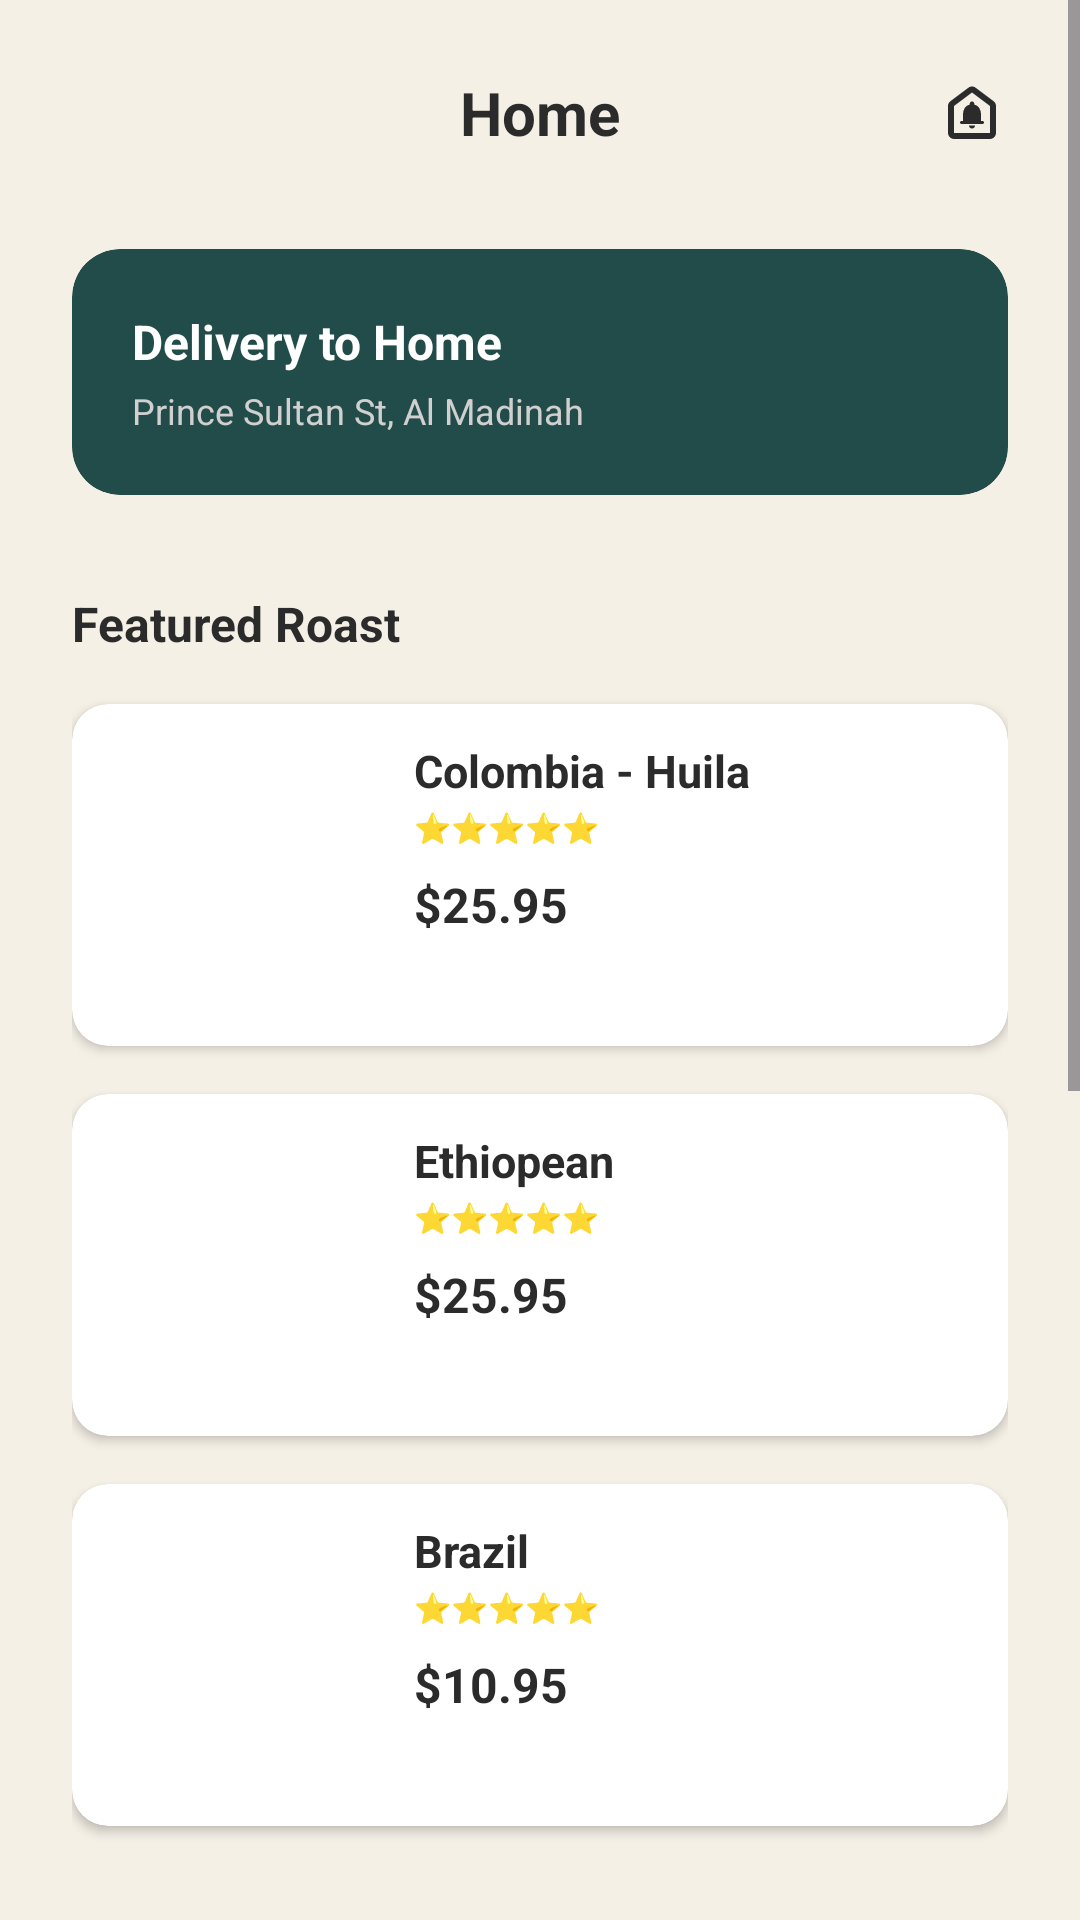

Locate icon controls on the screen. Image size 1080x1920, boxes as (x1, y1, x2, y2).
bell: (948, 86, 996, 139)
